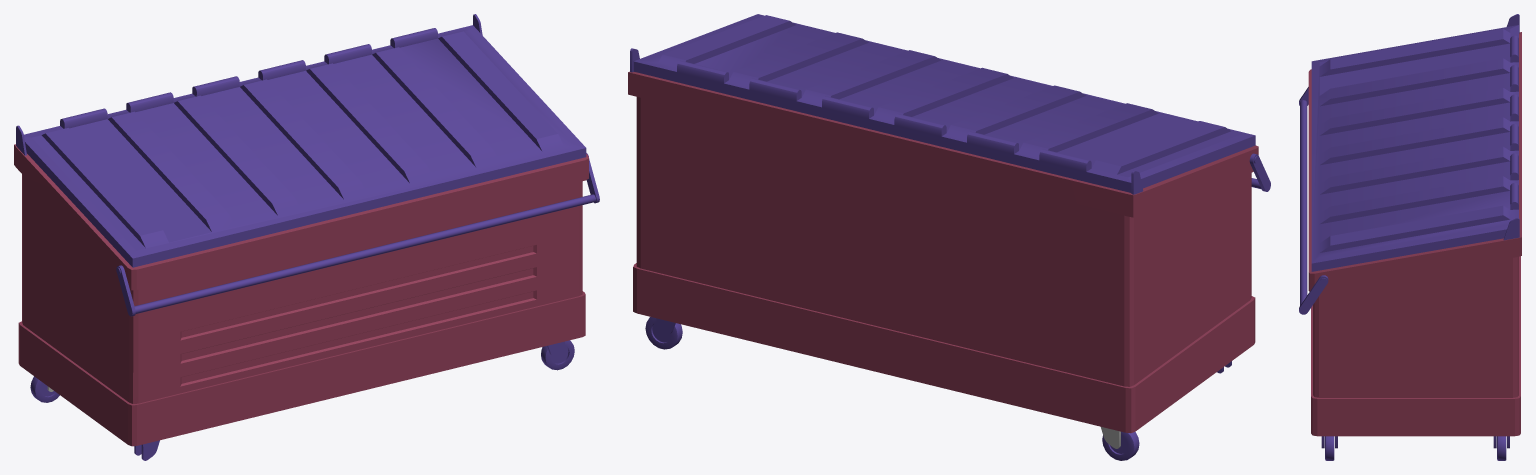
File: basuraUV.fbx
3 renders of one model, left to right at view 1: azimuth 30°, elevation 25°; view 2: azimuth 150°, elevation 25°; view 3: azimuth 270°, elevation 25°, orthographic. The views are drawn at different scales.
Parts seen in each view (by area): view 1: Box011, Box012, Box014; view 2: Box011, Box012, Cylinder019, Cylinder018; view 3: Box012, Box011, Box014, Box013, Box059, Cylinder006, Cylinder018.
Part boxes in pixels (<box>): Box011: <box>14,144,588,446</box>; Box012: <box>24,25,586,267</box>; Box014: <box>134,194,595,313</box>; Box011: <box>628,71,1258,433</box>; Box012: <box>633,14,1255,192</box>; Cylinder019: <box>1102,431,1139,460</box>; Cylinder018: <box>645,317,682,349</box>; Box012: <box>1311,25,1518,271</box>; Box011: <box>1308,32,1521,436</box>; Box014: <box>1300,100,1307,305</box>; Box013: <box>1299,275,1328,314</box>; Box059: <box>1503,217,1519,240</box>; Cylinder006: <box>1325,436,1334,460</box>; Cylinder018: <box>1497,436,1506,460</box>.
Bounding box in the file's own units: 142 × 78.89 × 63.74.
